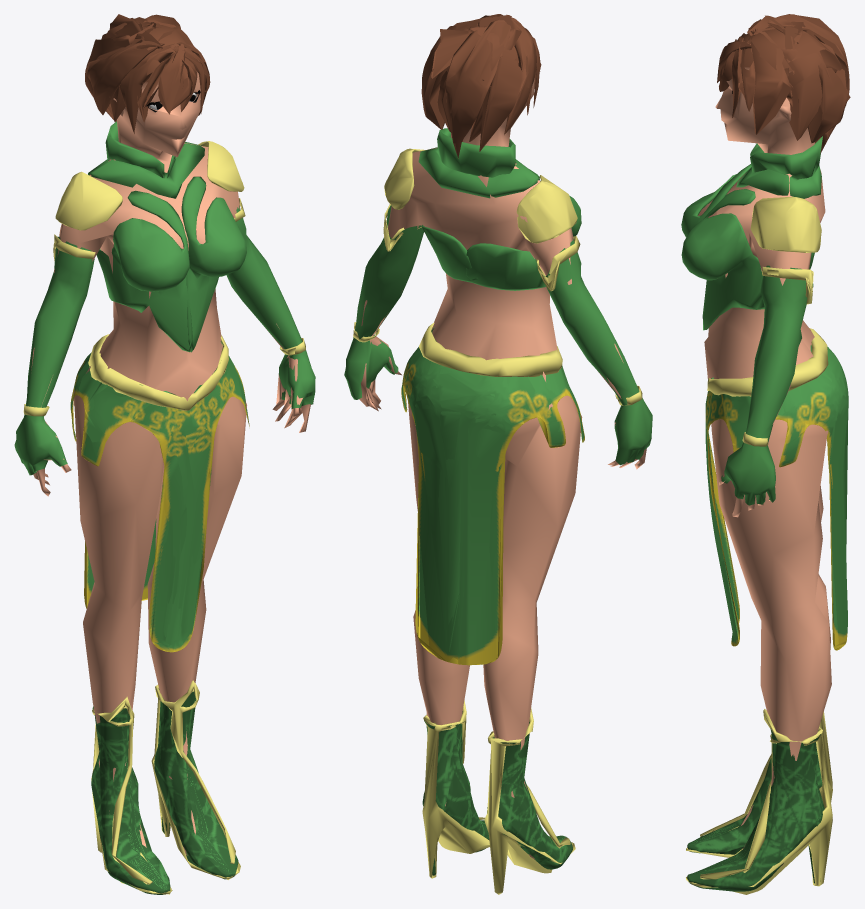
Rendered from female_warrior.glb.
3 renders of one model, left to right at view 1: azimuth 30°, elevation 25°; view 2: azimuth 150°, elevation 25°; view 3: azimuth 270°, elevation 25°, orthographic. The views are drawn at different scales.
Parts seen in each view (by area): view 1: Body, Skirt, Chestplate, Boots, Glove, Boots Bottom, Shoulderplate 3, Full Neck Brace, Belt Loop, NurbsPath.100, NurbsPath.098, NurbsPath.116 (+1 smaller); view 2: Body, Skirt, Glove, Boots Bottom, Boots, Full Neck Brace, Chestplate, NurbsPath.076, Shoulderplate 3, Belt Loop, NurbsPath.077, NurbsPath.100 (+4 smaller); view 3: Body, Skirt, Boots, Glove, Chestplate, Boots Bottom, Shoulderplate 3, Full Neck Brace, NurbsPath.068, NurbsPath.070, Belt Loop, NurbsPath.071 (+6 smaller).
Part boxes in pixels (<box>): Body: <box>31,23,310,855</box>; Skirt: <box>70,341,249,652</box>; Chestplate: <box>96,176,246,352</box>; Boots: <box>91,688,238,894</box>; Glove: <box>14,205,315,475</box>; Boots Bottom: <box>91,680,240,894</box>; Shoulderplate 3: <box>55,141,244,230</box>; Full Neck Brace: <box>88,121,204,198</box>; Belt Loop: <box>88,334,228,410</box>; NurbsPath.100: <box>89,42,164,114</box>; NurbsPath.098: <box>119,51,173,133</box>; NurbsPath.116: <box>158,44,185,114</box>; Body: <box>359,16,646,859</box>; Skirt: <box>401,327,584,665</box>; Glove: <box>344,205,652,465</box>; Boots Bottom: <box>422,700,575,894</box>; Boots: <box>422,711,572,875</box>; Full Neck Brace: <box>418,128,539,198</box>; Chestplate: <box>421,169,581,290</box>; NurbsPath.076: <box>445,19,511,158</box>; Shoulderplate 3: <box>384,148,577,243</box>; Belt Loop: <box>419,322,562,376</box>; NurbsPath.077: <box>479,14,528,151</box>; NurbsPath.100: <box>504,20,536,134</box>; Body: <box>698,26,831,866</box>; Skirt: <box>705,345,848,650</box>; Boots: <box>687,728,824,891</box>; Glove: <box>721,265,813,505</box>; Chestplate: <box>681,164,814,330</box>; Boots Bottom: <box>686,709,832,894</box>; Shoulderplate 3: <box>750,196,821,252</box>; Full Neck Brace: <box>736,136,822,198</box>; NurbsPath.068: <box>781,48,829,140</box>; NurbsPath.070: <box>750,31,791,134</box>; Belt Loop: <box>707,328,828,396</box>; NurbsPath.071: <box>797,42,850,143</box>.
Bounding box in the file's own units: 0.6945 × 1.94 × 0.3496.
8 materials, 3 textured.
